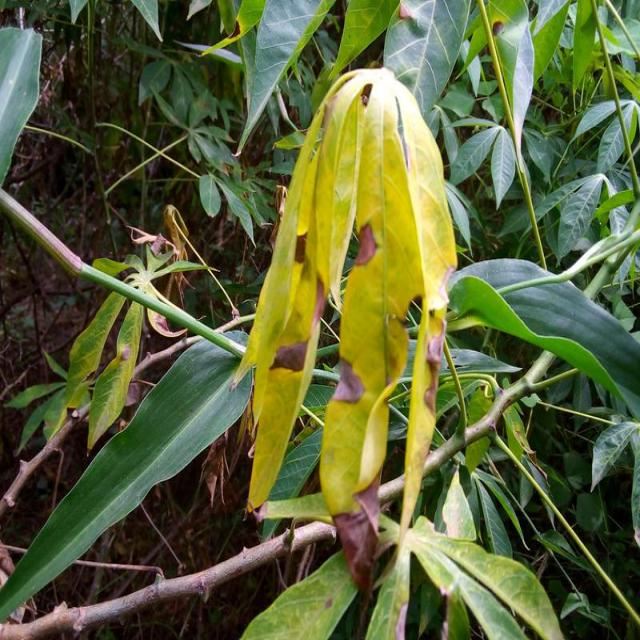cassava leaf: (234, 64, 458, 532), (0, 325, 254, 622), (444, 256, 639, 419)
